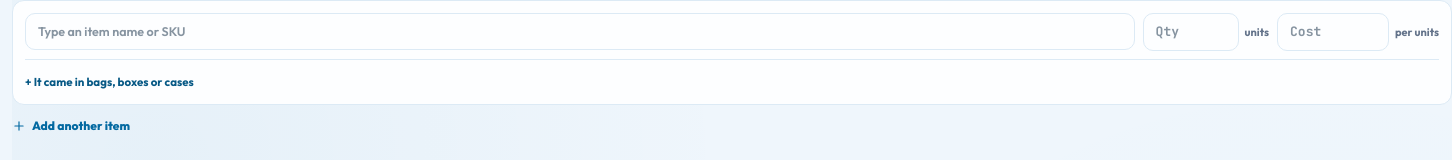
Test: choosing an item › says where to go when nothing matches, rather than showing an empty box
This screenshot has width=1452, height=160.
Type "zzz" into the field with placeholder "Type an item name or SKU" at (580, 32), box x1=25 y1=13 x2=1135 y2=50
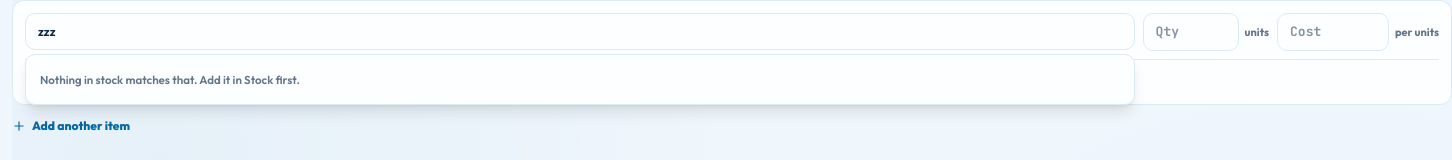
Expected: the text "Nothing in stock matches that. Add it in Stock first." is shown, x1=40 y1=72 x2=300 y2=87
